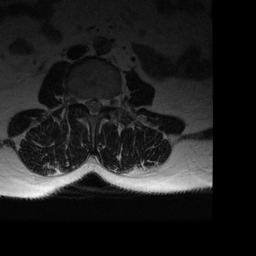CCS_stenosis: (90, 92, 96, 120)
LFS_normal: (103, 92, 109, 111)
LLS_normal: (96, 92, 102, 116)
RFS_normal: (78, 91, 85, 110)
RLS_normal: (85, 92, 90, 114)
